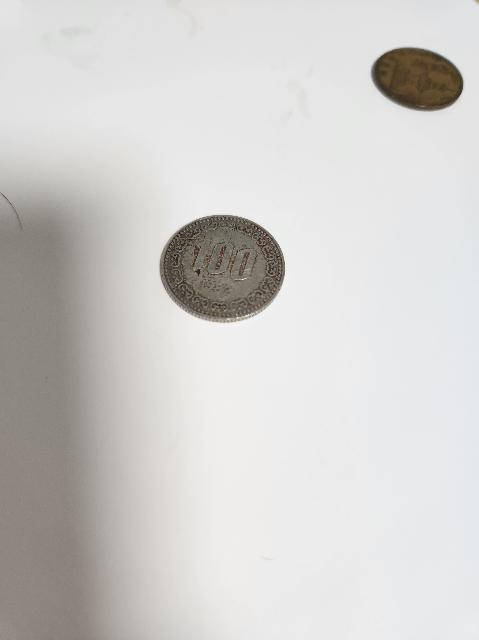coin: (159, 213, 289, 329), (370, 42, 468, 110)
